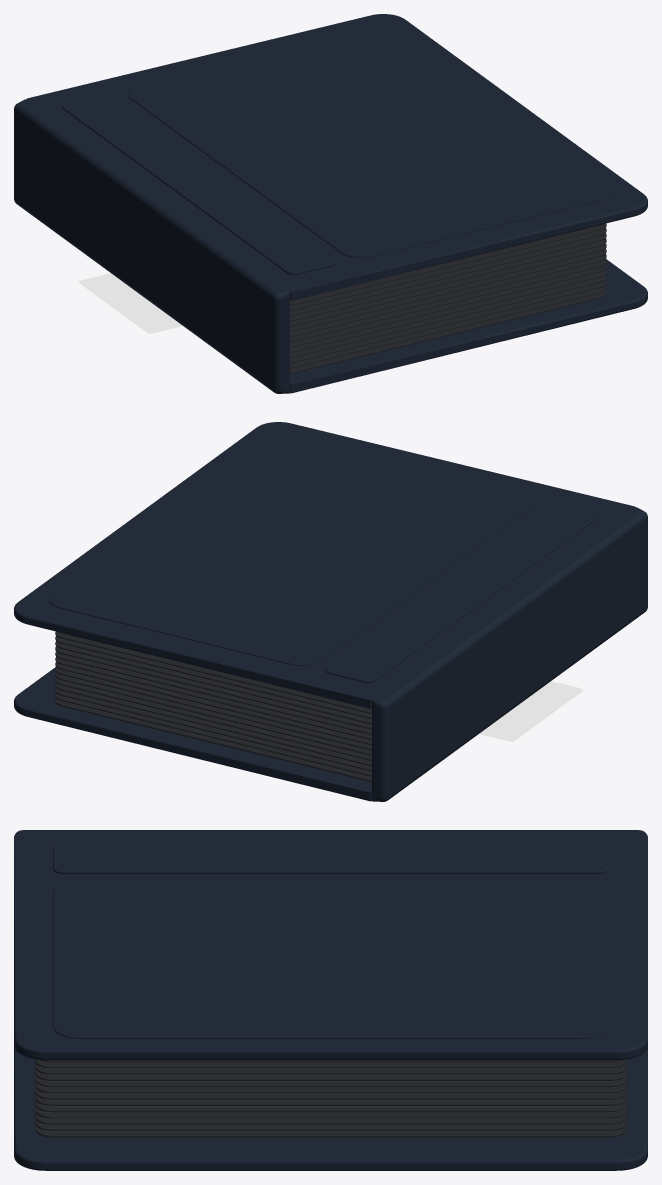
The model's file is album-16h.glb.
3 views of the same model, one above another, from view 1: azimuth 30°, elevation 25°; view 2: azimuth 150°, elevation 25°; view 3: azimuth 270°, elevation 25° (orthographic). The views are drawn at different scales.
Visible parts, largest first — view 1: Tapa_Panel, Lomo, Tapa_Malla, Tapa_Banda, Contratapa, Plantilla_Carta_F, Hoja_10_Losa, Hoja_4_Losa, Hoja_9_Losa, Hoja_8_Losa, Hoja_11_Losa, Hoja_3_Losa (+8 smaller); view 2: Tapa_Panel, Lomo, Tapa_Malla, Tapa_Banda, Contratapa, Plantilla_Carta_F, Hoja_10_Losa, Hoja_4_Losa, Hoja_9_Losa, Hoja_8_Losa, Hoja_11_Losa, Hoja_3_Losa (+8 smaller); view 3: Tapa_Panel, Tapa_Malla, Contratapa, Tapa_Banda, Hoja_5_Losa, Hoja_9_Losa, Hoja_10_Losa, Hoja_14_Losa, Hoja_6_Losa, Hoja_13_Losa, Hoja_11_Losa, Hoja_12_Losa (+6 smaller).
Part boxes in pixels (bbox=[...]): Tapa_Panel: bbox=[128, 28, 612, 257]; Lomo: bbox=[14, 99, 289, 393]; Tapa_Malla: bbox=[27, 14, 647, 300]; Tapa_Banda: bbox=[62, 94, 336, 274]; Contratapa: bbox=[290, 259, 647, 393]; Plantilla_Carta_F: bbox=[78, 273, 182, 333]; Hoja_10_Losa: bbox=[290, 264, 606, 347]; Hoja_4_Losa: bbox=[290, 233, 606, 316]; Hoja_9_Losa: bbox=[290, 259, 606, 342]; Hoja_8_Losa: bbox=[290, 254, 606, 337]; Hoja_11_Losa: bbox=[290, 270, 606, 352]; Hoja_3_Losa: bbox=[290, 228, 606, 311]; Tapa_Panel: bbox=[49, 436, 533, 665]; Lomo: bbox=[372, 507, 647, 801]; Tapa_Malla: bbox=[14, 422, 635, 708]; Tapa_Banda: bbox=[325, 502, 599, 682]; Contratapa: bbox=[14, 667, 371, 801]; Plantilla_Carta_F: bbox=[479, 681, 583, 741]; Hoja_10_Losa: bbox=[55, 672, 371, 755]; Hoja_4_Losa: bbox=[55, 641, 371, 724]; Hoja_9_Losa: bbox=[55, 667, 371, 750]; Hoja_8_Losa: bbox=[55, 662, 371, 745]; Hoja_11_Losa: bbox=[55, 678, 371, 760]; Hoja_3_Losa: bbox=[55, 636, 371, 719]; Tapa_Panel: bbox=[53, 880, 608, 1038]; Tapa_Malla: bbox=[14, 836, 647, 1060]; Contratapa: bbox=[14, 1046, 647, 1170]; Tapa_Banda: bbox=[53, 844, 608, 873]; Hoja_5_Losa: bbox=[35, 1062, 626, 1074]; Hoja_9_Losa: bbox=[35, 1087, 626, 1099]; Hoja_10_Losa: bbox=[35, 1094, 626, 1105]; Hoja_14_Losa: bbox=[35, 1119, 626, 1130]; Hoja_6_Losa: bbox=[35, 1069, 626, 1080]; Hoja_13_Losa: bbox=[35, 1112, 626, 1124]; Hoja_11_Losa: bbox=[35, 1100, 626, 1112]; Hoja_12_Losa: bbox=[35, 1106, 626, 1118].
Size of the model in its own units: 0.2895 by 0.0692 by 0.322.
